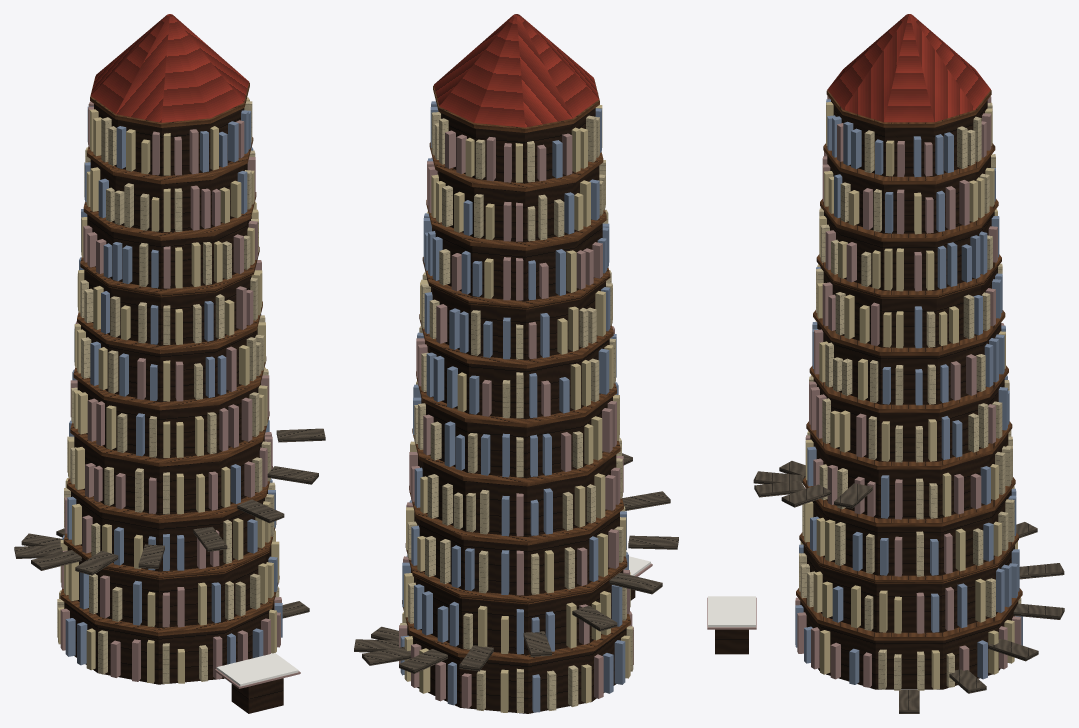
The model's file is library_tower.glb.
3 renders of one model, left to right at view 1: azimuth 30°, elevation 25°; view 2: azimuth 150°, elevation 25°; view 3: azimuth 270°, elevation 25°, orthographic. The views are drawn at different scales.
Visible parts, largest first — view 1: library_tower; view 2: library_tower; view 3: library_tower.
Boxes of the visible parts, left/top/right/bottom form: library_tower: left=14, top=14, right=325, bottom=713; library_tower: left=354, top=14, right=678, bottom=713; library_tower: left=707, top=14, right=1064, bottom=713.
Size of what is drawn, in the model's own units: 4.6 by 10.23 by 5.24.
9 materials, 5 textured.
